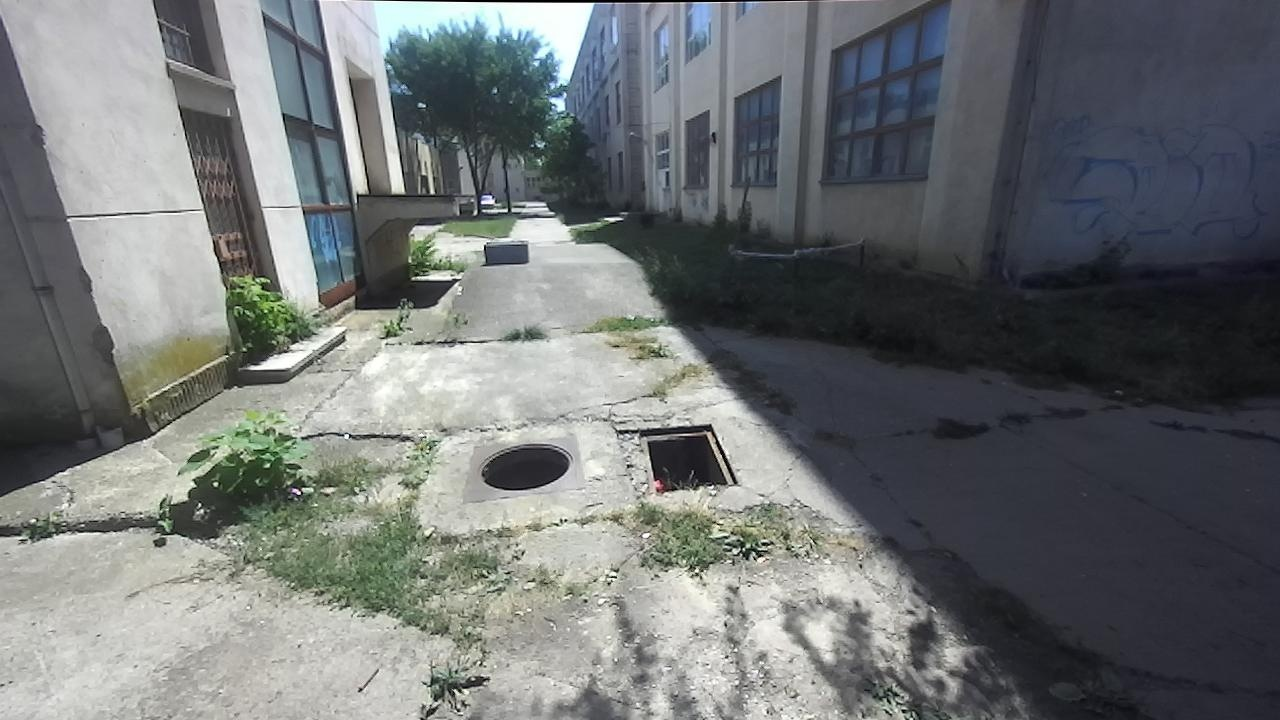drain: (616, 428, 741, 488), (472, 443, 577, 492)
